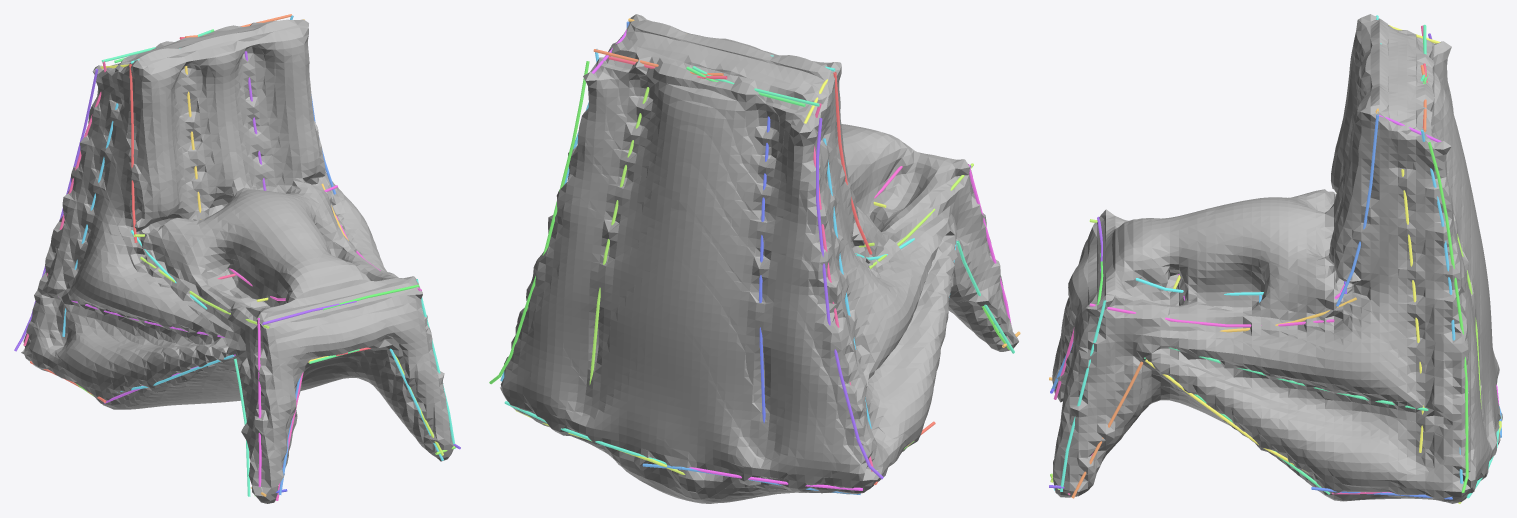
The model's file is author1_chair_ff.gltf.
The picture shows the model from 3 angles, left to right: view 1: azimuth 30°, elevation 25°; view 2: azimuth 150°, elevation 25°; view 3: azimuth 270°, elevation 25°; orthographic projection. The views are drawn at different scales.
Size of the model in its own units: 0.5763 by 0.6038 by 0.6027.
